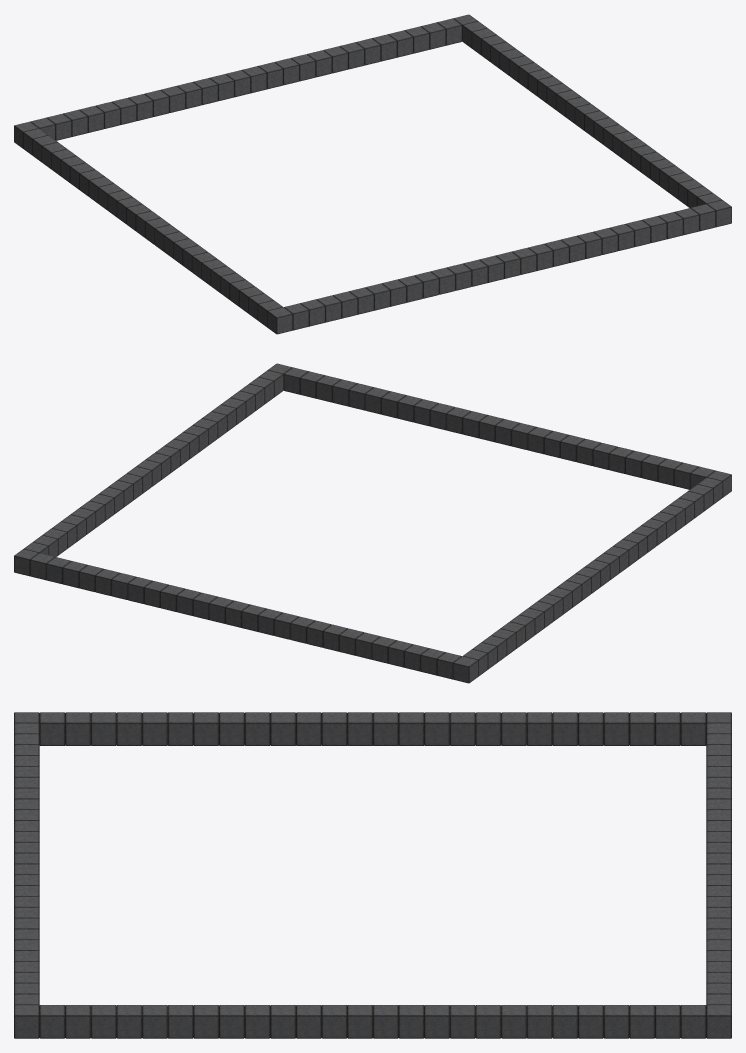
File: bordure.fbx
3 renders of one model, top to bottom at view 1: azimuth 30°, elevation 25°; view 2: azimuth 150°, elevation 25°; view 3: azimuth 270°, elevation 25°, orthographic. The views are drawn at different scales.
Parts seen in each view (by area): view 1: sol_niveau_6_bordure; view 2: sol_niveau_6_bordure; view 3: sol_niveau_6_bordure.
Part boxes in pixels (bbox=[...]): sol_niveau_6_bordure: bbox=[14, 14, 731, 334]; sol_niveau_6_bordure: bbox=[14, 363, 731, 683]; sol_niveau_6_bordure: bbox=[14, 712, 731, 1038].
Bounding box in the file's own units: 1400 × 50 × 1400.
